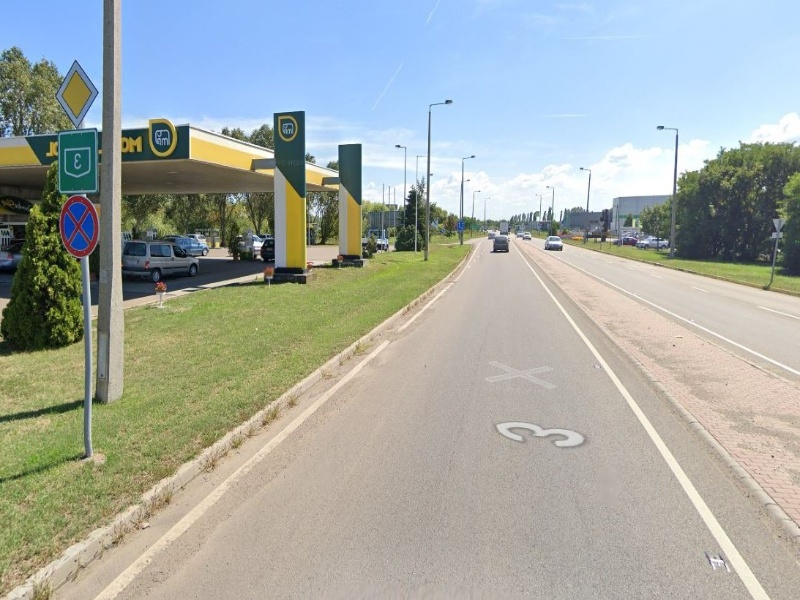fout: (56, 62, 100, 128)
